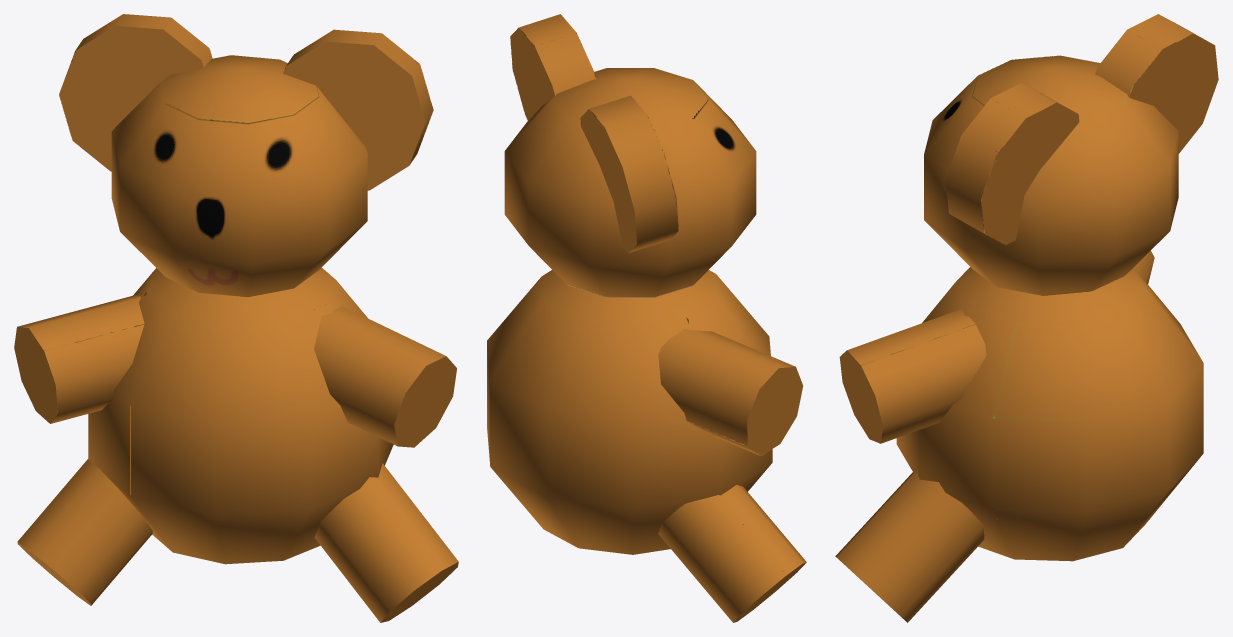
Rendered from bear.FBX.
The picture shows the model from 3 angles, left to right: view 1: azimuth 30°, elevation 25°; view 2: azimuth 150°, elevation 25°; view 3: azimuth 270°, elevation 25°; orthographic projection. The views are drawn at different scales.
Visible parts, largest first — view 1: bear; view 2: bear; view 3: bear.
Part boxes in pixels (x1,y1,x2,y2): bear: [14, 14, 458, 622]; bear: [487, 14, 806, 622]; bear: [835, 14, 1218, 622].
Bounding box in the file's own units: 26.07 × 37.73 × 24.71.
